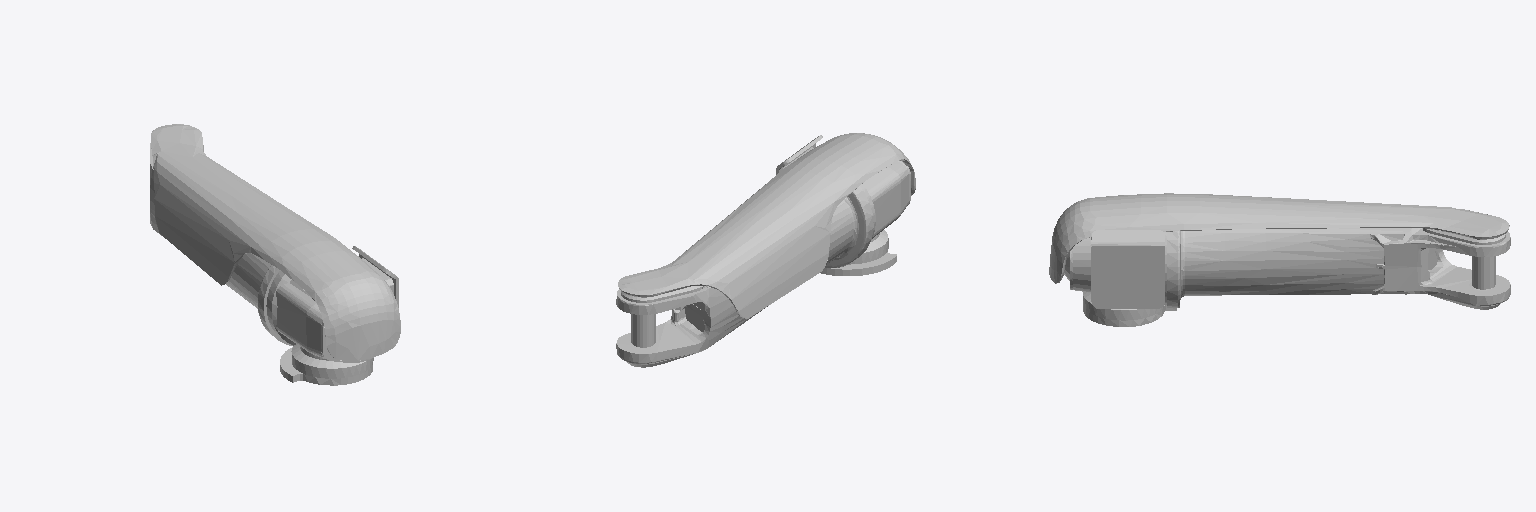
Rendered from fl_uleg_visuals_mesh_0.obj.
The picture shows the model from 3 angles: view 1: azimuth 30°, elevation 25°; view 2: azimuth 150°, elevation 25°; view 3: azimuth 270°, elevation 25°; orthographic projection.
Size of the model in its own units: 0.101 by 0.108 by 0.4112.